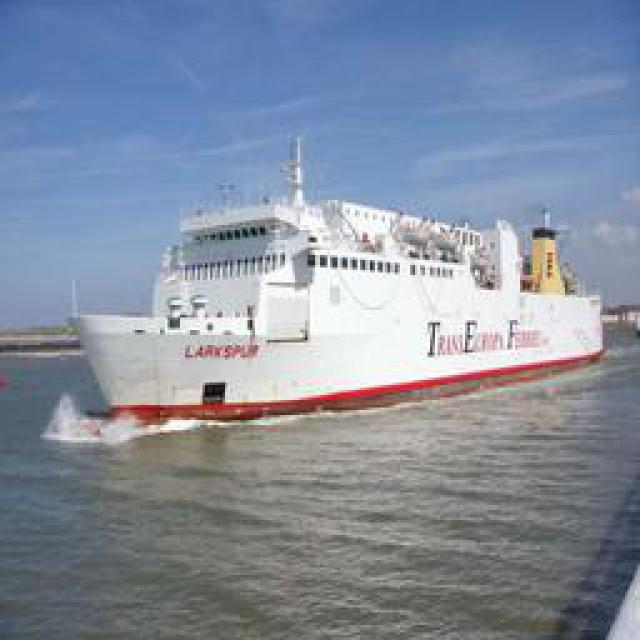Ship: (71, 132, 606, 430)
